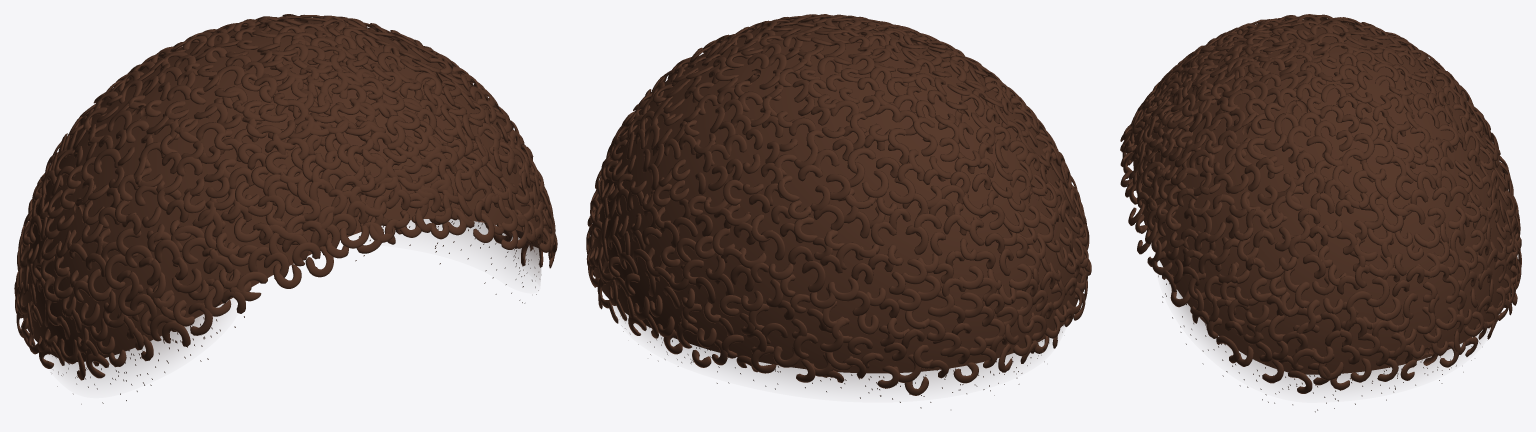
File: Masculine-afro-pashmina-hair.glb
3 renders of one model, left to right at view 1: azimuth 30°, elevation 25°; view 2: azimuth 150°, elevation 25°; view 3: azimuth 270°, elevation 25°, orthographic. The views are drawn at different scales.
Visible parts, largest first — view 1: 226 hair / Hair / sculpted curl clusters227, 226 hair / Hair / curly taper density227; view 2: 226 hair / Hair / sculpted curl clusters227, 226 hair / Hair / curly taper density227; view 3: 226 hair / Hair / sculpted curl clusters227, 226 hair / Hair / curly taper density227.
Part boxes in pixels (bbox=[...]): 226 hair / Hair / sculpted curl clusters227: bbox=[14, 14, 557, 380]; 226 hair / Hair / curly taper density227: bbox=[48, 219, 541, 375]; 226 hair / Hair / sculpted curl clusters227: bbox=[586, 14, 1091, 395]; 226 hair / Hair / curly taper density227: bbox=[615, 306, 1050, 384]; 226 hair / Hair / sculpted curl clusters227: bbox=[1120, 14, 1521, 393]; 226 hair / Hair / curly taper density227: bbox=[1170, 286, 1478, 384].
Size of the model in its own units: 1.03 by 0.6544 by 0.8277.
